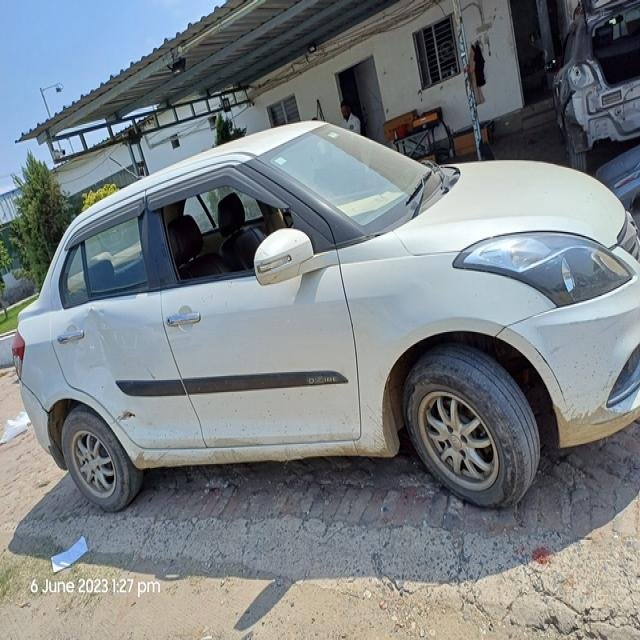damage: (76, 312, 136, 377), (115, 409, 138, 422), (105, 419, 118, 426)
